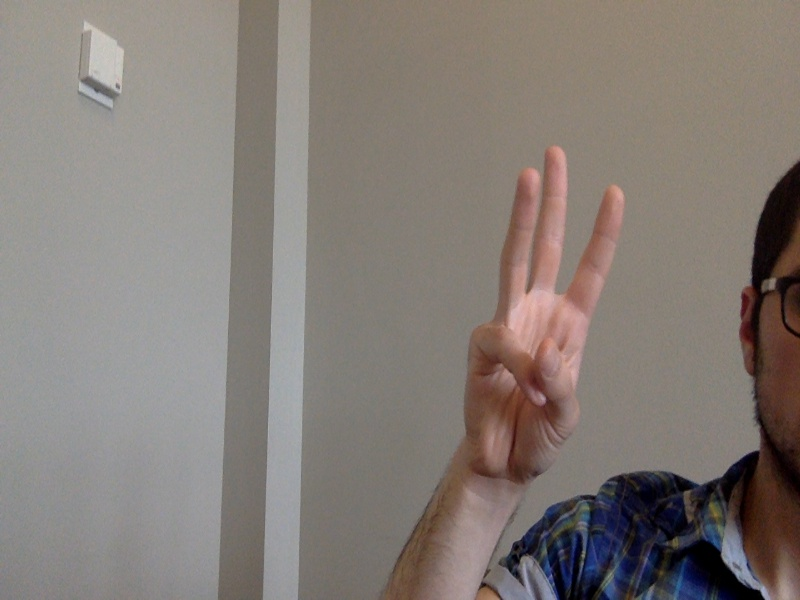3-hand: (463, 145, 626, 488)
